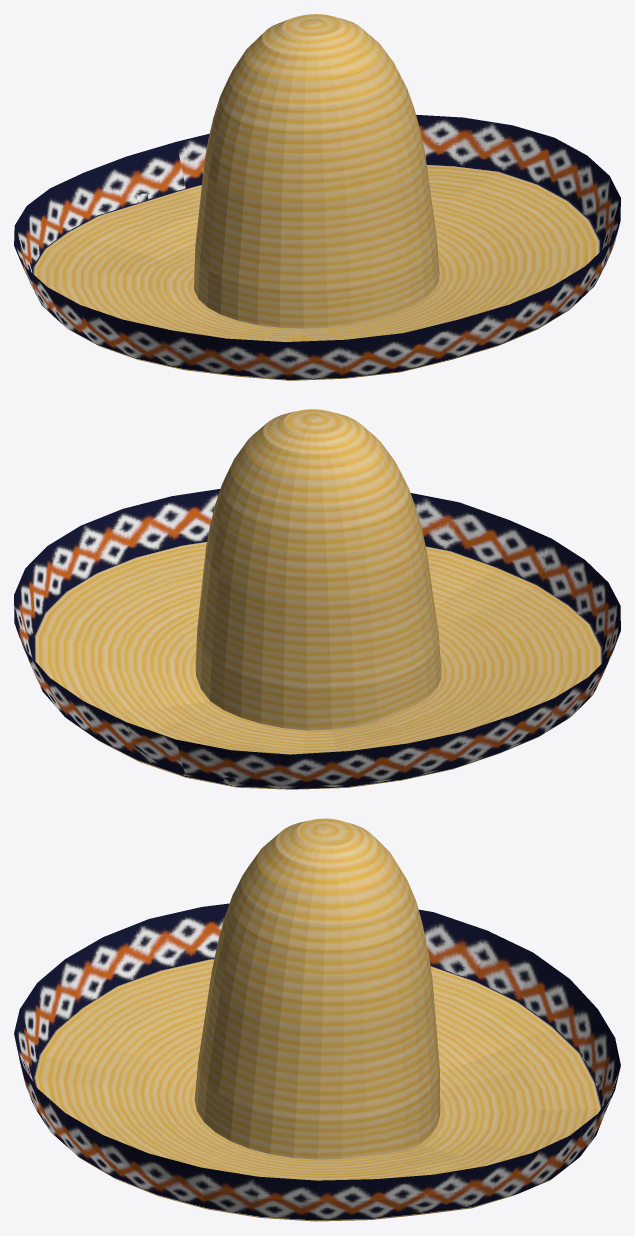
File: sombrero.fbx
3 renders of one model, top to bottom at view 1: azimuth 30°, elevation 25°; view 2: azimuth 150°, elevation 25°; view 3: azimuth 270°, elevation 25°, orthographic. The views are drawn at different scales.
Parts seen in each view (by area): view 1: Sombrero; view 2: Sombrero; view 3: Sombrero.
Boxes of the visible parts, x1,y1,x2,y2 form: Sombrero: (14, 14, 620, 380); Sombrero: (14, 409, 620, 789); Sombrero: (14, 818, 620, 1221).
Bounding box in the file's own units: 129 × 62.2 × 117.
